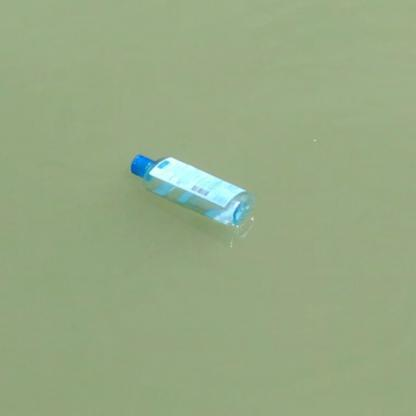plastic bottle: (130, 153, 252, 226)
